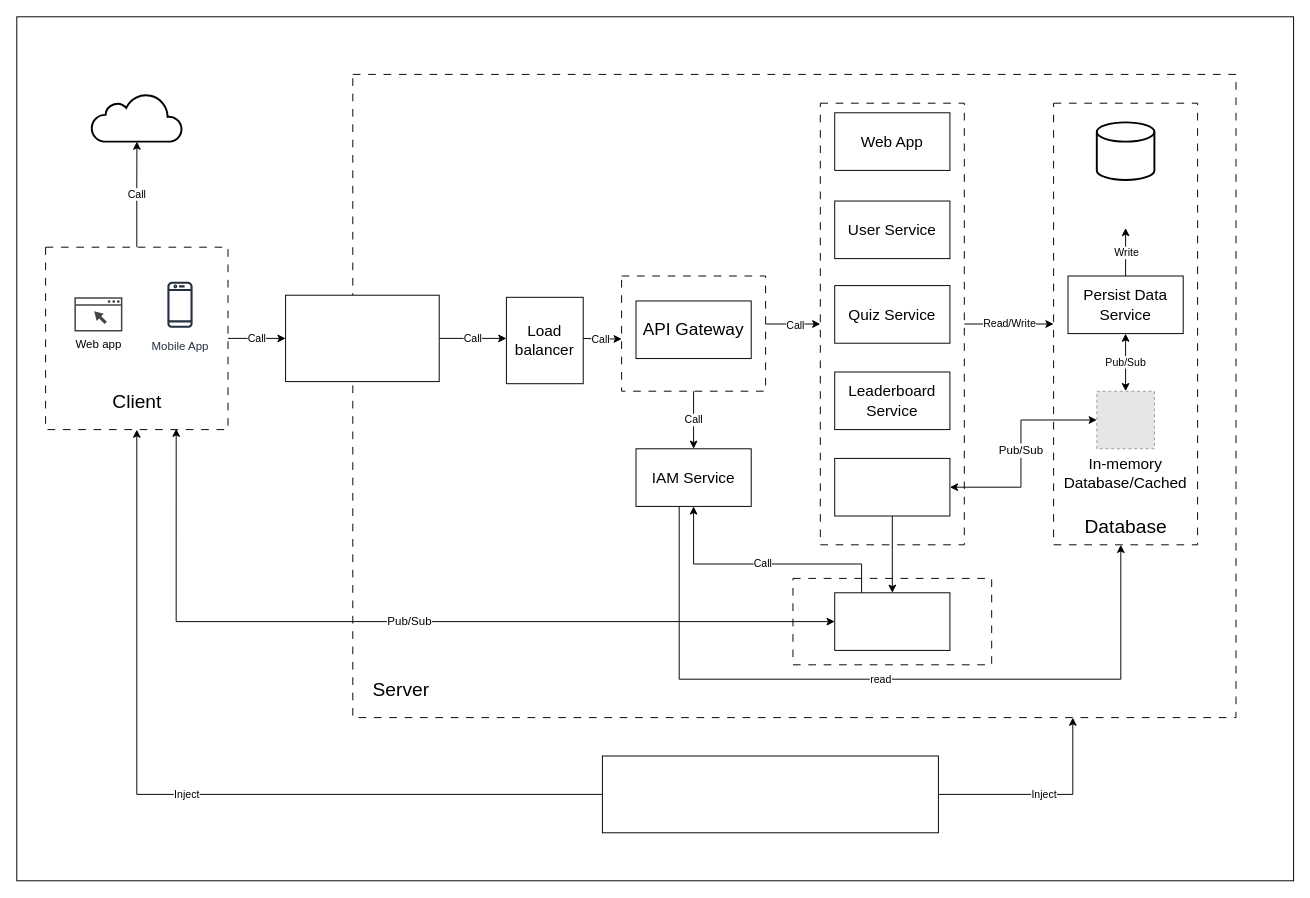
The diagram is 1310 pixels wide and 898 high, and some of its shapes have lost their labels. Grey dashed boxes stand in for pictures. Each missing label, with the centre of its shape:
CDN: [136,117]
Notification Service: [892,486]
Primary Datebase: [1125,150]
Rate Limiting Traffic Shaping: [362,338]
Tracking & Monitoring & Logging: [769,794]
Web Socket Service: [892,621]
